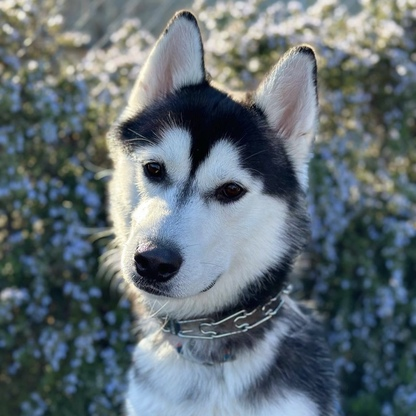husky: (97, 6, 350, 416)
